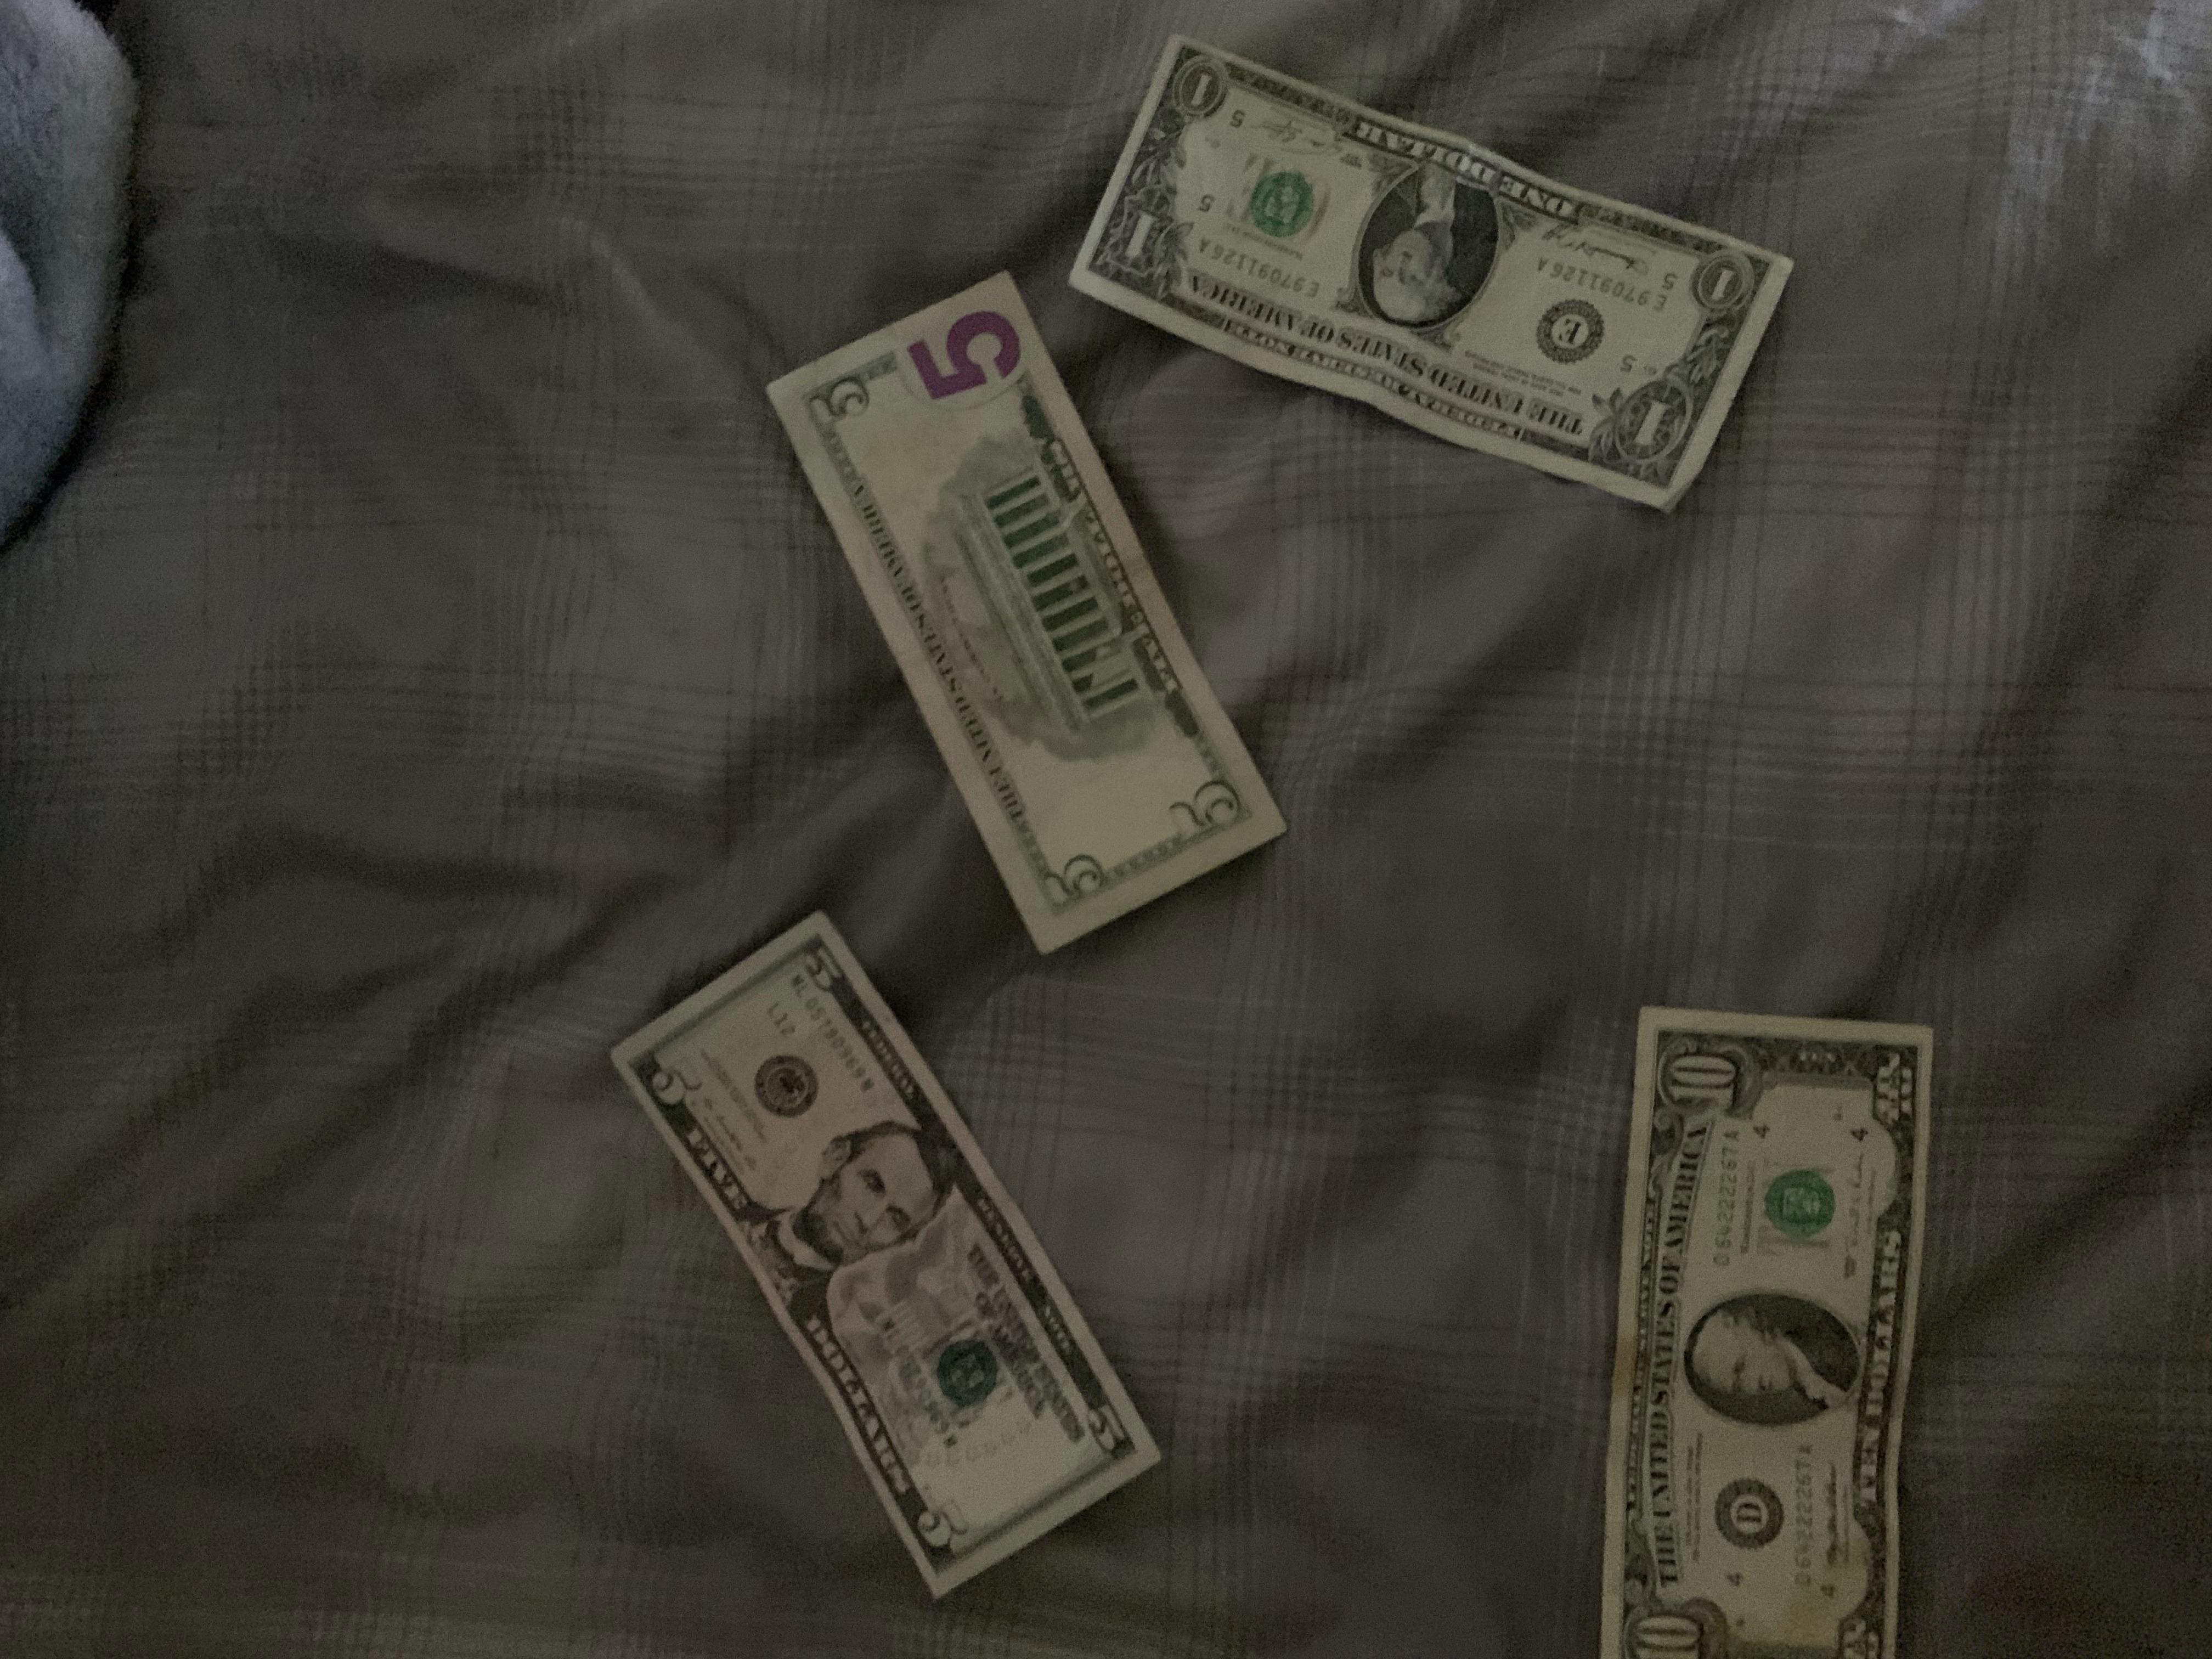FiveBill: (580, 908, 1174, 1610), (758, 267, 1303, 965)
OneBill: (1062, 31, 1796, 514)
TenBill: (1594, 990, 1919, 1656)
